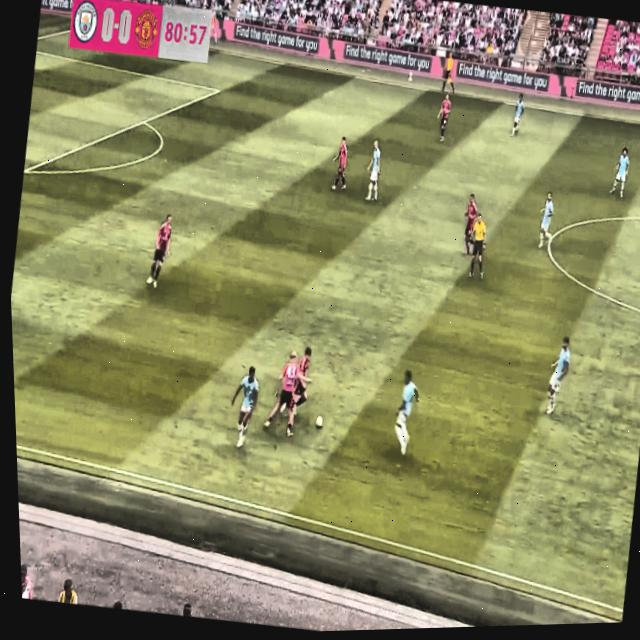ball: (311, 410, 330, 439)
players: (254, 342, 310, 446), (386, 366, 437, 463), (219, 360, 266, 454), (537, 331, 579, 419), (280, 340, 321, 423), (140, 211, 178, 297), (355, 136, 391, 210), (324, 131, 359, 200), (453, 187, 488, 256), (531, 183, 561, 253), (606, 137, 636, 198), (431, 89, 459, 153), (504, 87, 530, 147)
refree: (459, 210, 498, 287), (438, 45, 464, 101)
